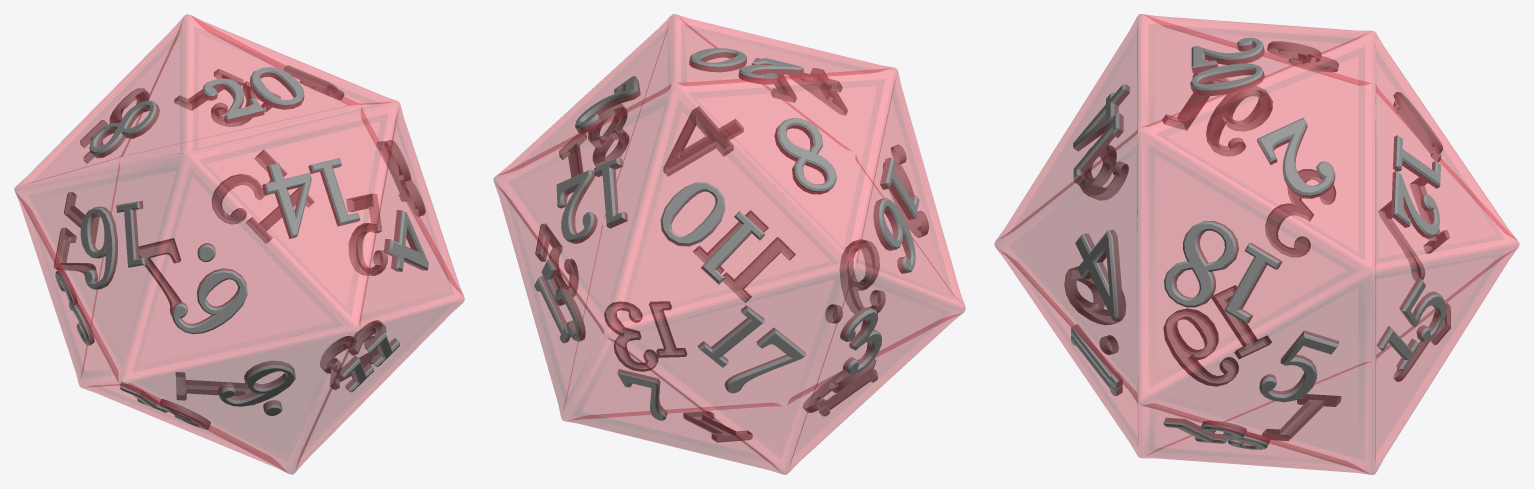
The model's file is dice.gltf.
3 views of the same model, side by side, from view 1: azimuth 30°, elevation 25°; view 2: azimuth 150°, elevation 25°; view 3: azimuth 270°, elevation 25° (orthographic). The views are drawn at different scales.
Visible parts, largest first — view 1: Solid.002; view 2: Solid.002; view 3: Solid.002.
Part boxes in pixels (<box>): Solid.002: <box>14,14,464,474</box>; Solid.002: <box>493,14,965,474</box>; Solid.002: <box>994,14,1519,474</box>.
Bounding box in the file's own units: 1.17 × 1.24 × 1.38.
